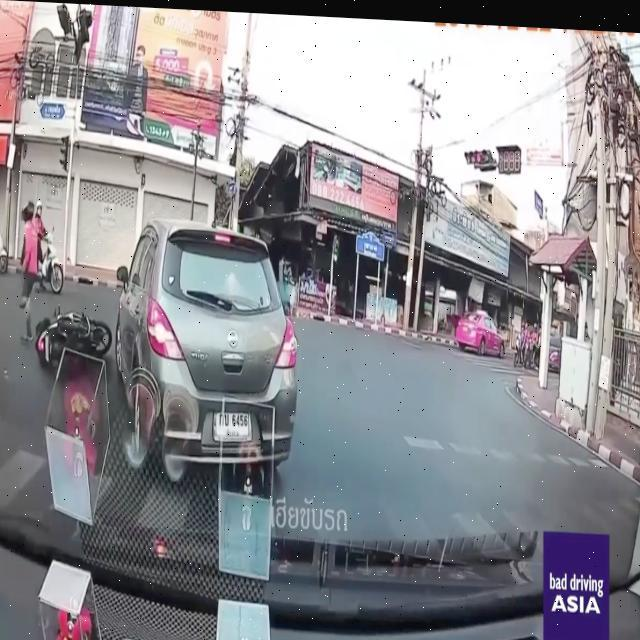multiple_accident: (14, 199, 306, 517)
